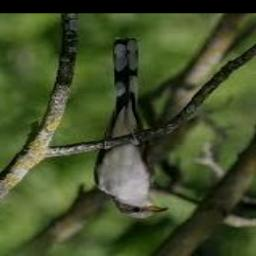Cuckoo: (95, 38, 169, 218)
